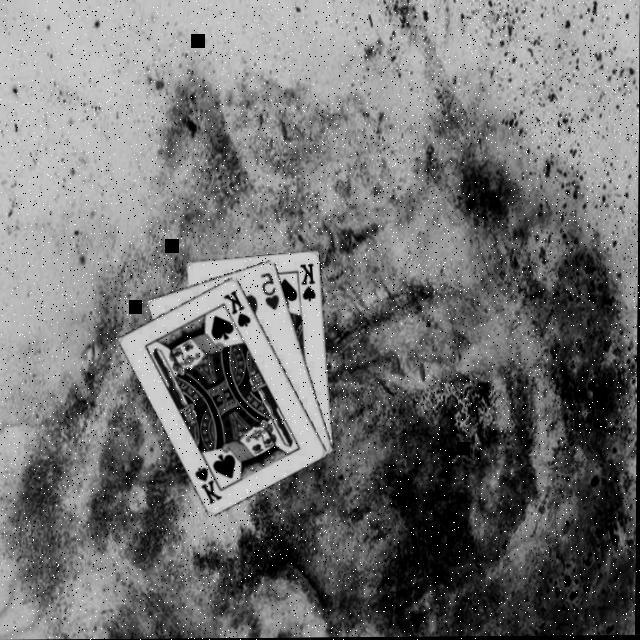5H: (260, 268, 284, 311)
KS: (194, 456, 228, 506), (222, 286, 256, 328), (300, 260, 322, 302)
